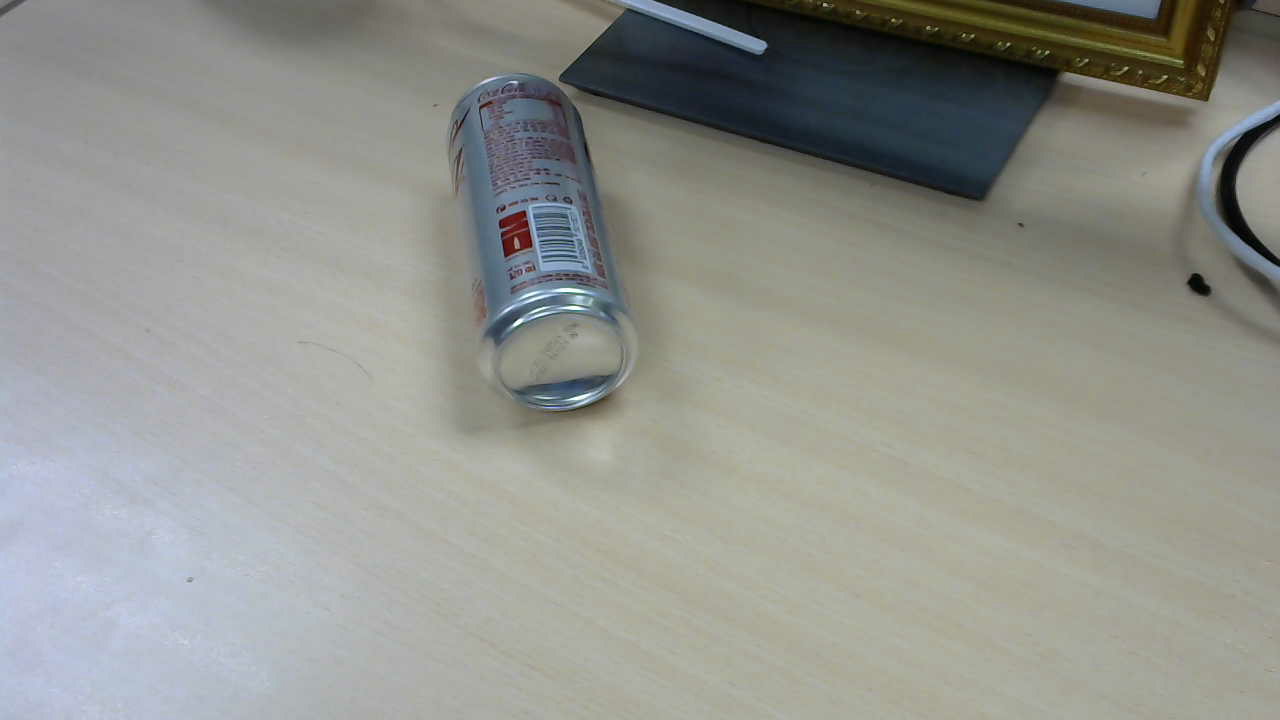Coca_Cola: (447, 78, 643, 421)
